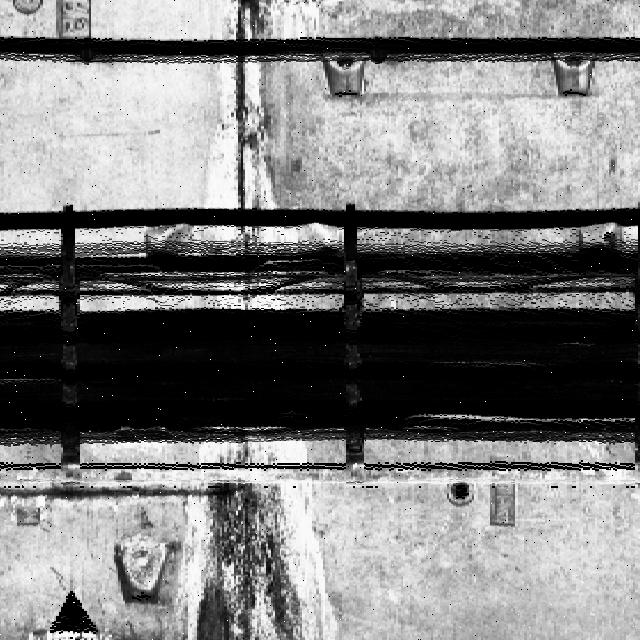leakage: (171, 425, 344, 639), (192, 3, 296, 258)
